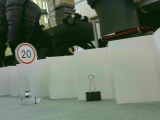speed_20: (14, 42, 37, 65)
